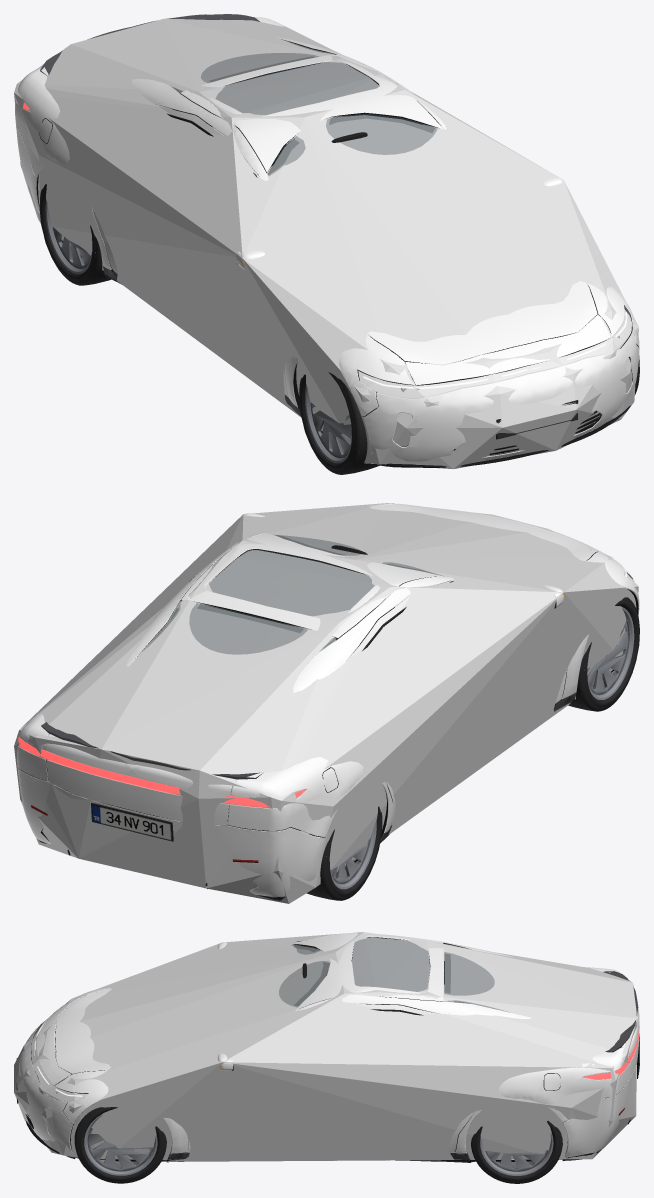
File: noctra_volta_lod0.glb
3 renders of one model, top to bottom at view 1: azimuth 30°, elevation 25°; view 2: azimuth 150°, elevation 25°; view 3: azimuth 270°, elevation 25°, orthographic. The views are drawn at different scales.
Visible parts, largest first — view 1: col_body, body, glass, trim, wheel_FR, lights_front, wheel_RR; view 2: col_body, body, glass, wheel_FR, trim, wheel_RR, lights_rear, plate_rear; view 3: col_body, body, glass, wheel_FL, wheel_RL, trim, lights_front, underbody.
Boxes of the visible parts, <box> form: col_body: <box>14,18,638,468</box>; body: <box>15,17,639,461</box>; glass: <box>172,42,437,175</box>; trim: <box>17,14,638,467</box>; wheel_FR: <box>299,372,379,474</box>; lights_front: <box>358,306,631,398</box>; wheel_RR: <box>39,184,111,285</box>; col_body: <box>14,503,638,903</box>; body: <box>17,503,639,896</box>; glass: <box>144,535,441,654</box>; wheel_FR: <box>568,597,639,711</box>; trim: <box>18,545,632,888</box>; wheel_RR: <box>306,806,382,900</box>; lights_rear: <box>18,737,307,808</box>; plate_rear: <box>91,805,171,840</box>; col_body: <box>14,932,637,1162</box>; body: <box>19,933,639,1157</box>; glass: <box>279,937,506,1011</box>; wheel_FL: <box>74,1107,166,1183</box>; wheel_RL: <box>471,1121,562,1183</box>; trim: <box>16,937,639,1160</box>; lights_front: <box>32,1018,87,1101</box>; underbody: <box>67,1112,601,1162</box>.
Size of the model in its own units: 2.1 by 1.4 by 4.62.
13 materials, 1 textured.
